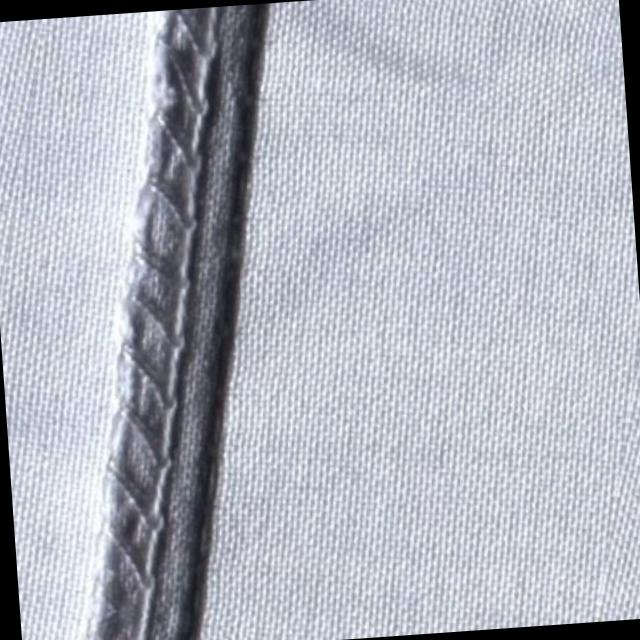gray stitch: (72, 309, 259, 640), (103, 11, 279, 318)
